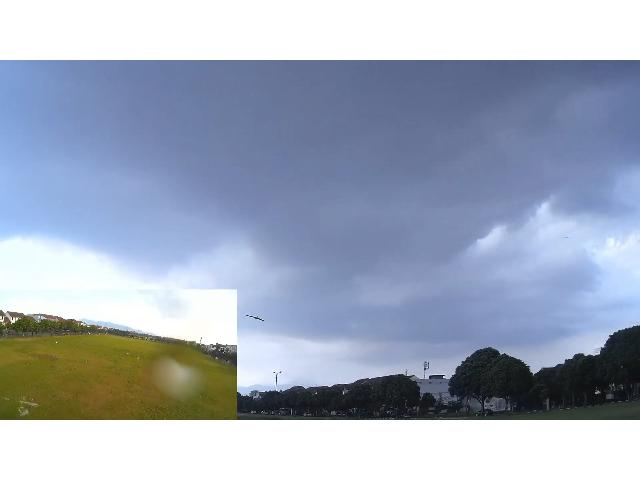Anti-Drone: (246, 315, 264, 321)
